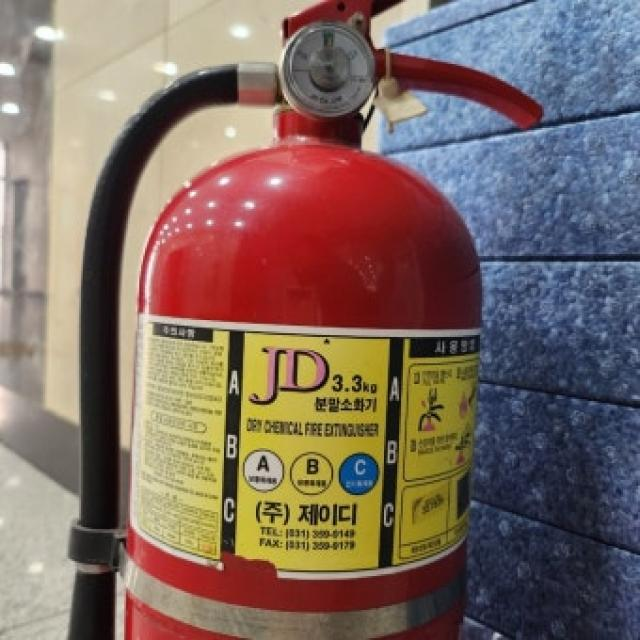pressure gauge: (282, 23, 373, 117)
